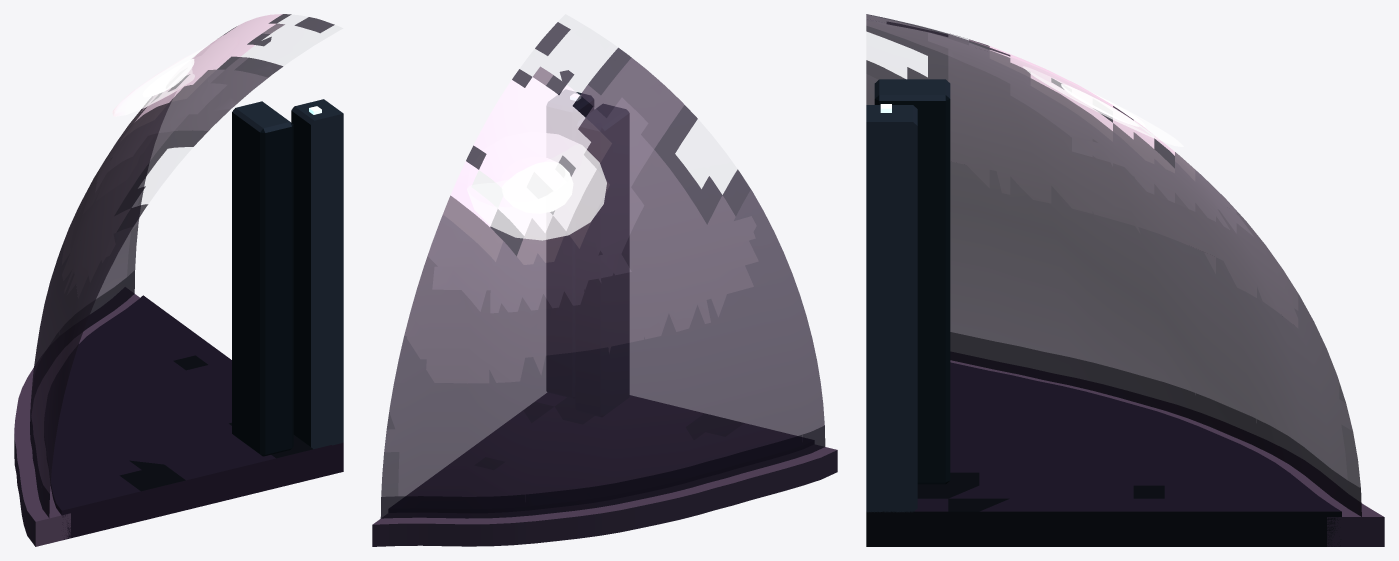
Rendered from purple_dome_tl.glb.
3 renders of one model, left to right at view 1: azimuth 30°, elevation 25°; view 2: azimuth 150°, elevation 25°; view 3: azimuth 270°, elevation 25°, orthographic. The views are drawn at different scales.
Visible parts, largest first — view 1: purple_dome_tl_floor, purple_dome_tl_glassshell, purple_dome_tl_bd_tower68, purple_dome_tl_bd_tower70, purple_dome_tl_collar, purple_dome_tl_glassshell_halo, purple_dome_tl_glassshell_glint; view 2: purple_dome_tl_glassshell, purple_dome_tl_floor, purple_dome_tl_bd_tower68, purple_dome_tl_collar, purple_dome_tl_glassshell_halo, purple_dome_tl_bd_tower70, purple_dome_tl_glassshell_glint; view 3: purple_dome_tl_glassshell, purple_dome_tl_floor, purple_dome_tl_bd_tower70, purple_dome_tl_bd_tower68, purple_dome_tl_collar, purple_dome_tl_glassshell_halo, purple_dome_tl_glassshell_glint.
Part boxes in pixels (x1=…): purple_dome_tl_floor: x1=44, y1=295, x2=343, y2=539; purple_dome_tl_glassshell: x1=30, y1=14, x2=334, y2=517; purple_dome_tl_bd_tower68: x1=232, y1=101, x2=293, y2=456; purple_dome_tl_bd_tower70: x1=291, y1=99, x2=343, y2=449; purple_dome_tl_collar: x1=14, y1=292, x2=139, y2=546; purple_dome_tl_glassshell_halo: x1=112, y1=46, x2=207, y2=116; purple_dome_tl_glassshell_glint: x1=142, y1=57, x2=200, y2=97; purple_dome_tl_glassshell: x1=380, y1=22, x2=825, y2=518; purple_dome_tl_floor: x1=390, y1=392, x2=813, y2=512; purple_dome_tl_bd_tower68: x1=575, y1=104, x2=629, y2=416; purple_dome_tl_collar: x1=372, y1=445, x2=837, y2=546; purple_dome_tl_glassshell_halo: x1=467, y1=144, x2=606, y2=240; purple_dome_tl_bd_tower70: x1=546, y1=90, x2=593, y2=398; purple_dome_tl_glassshell_glint: x1=500, y1=162, x2=573, y2=213; purple_dome_tl_glassshell: x1=866, y1=14, x2=1361, y2=516; purple_dome_tl_floor: x1=866, y1=362, x2=1341, y2=546; purple_dome_tl_bd_tower70: x1=866, y1=105, x2=917, y2=512; purple_dome_tl_bd_tower68: x1=874, y1=79, x2=950, y2=484; purple_dome_tl_collar: x1=950, y1=352, x2=1384, y2=546; purple_dome_tl_glassshell_halo: x1=1023, y1=66, x2=1183, y2=146; purple_dome_tl_glassshell_glint: x1=1061, y1=84, x2=1145, y2=126.
Bounding box in the file's own units: 20.51 × 28.2 × 25.18.
